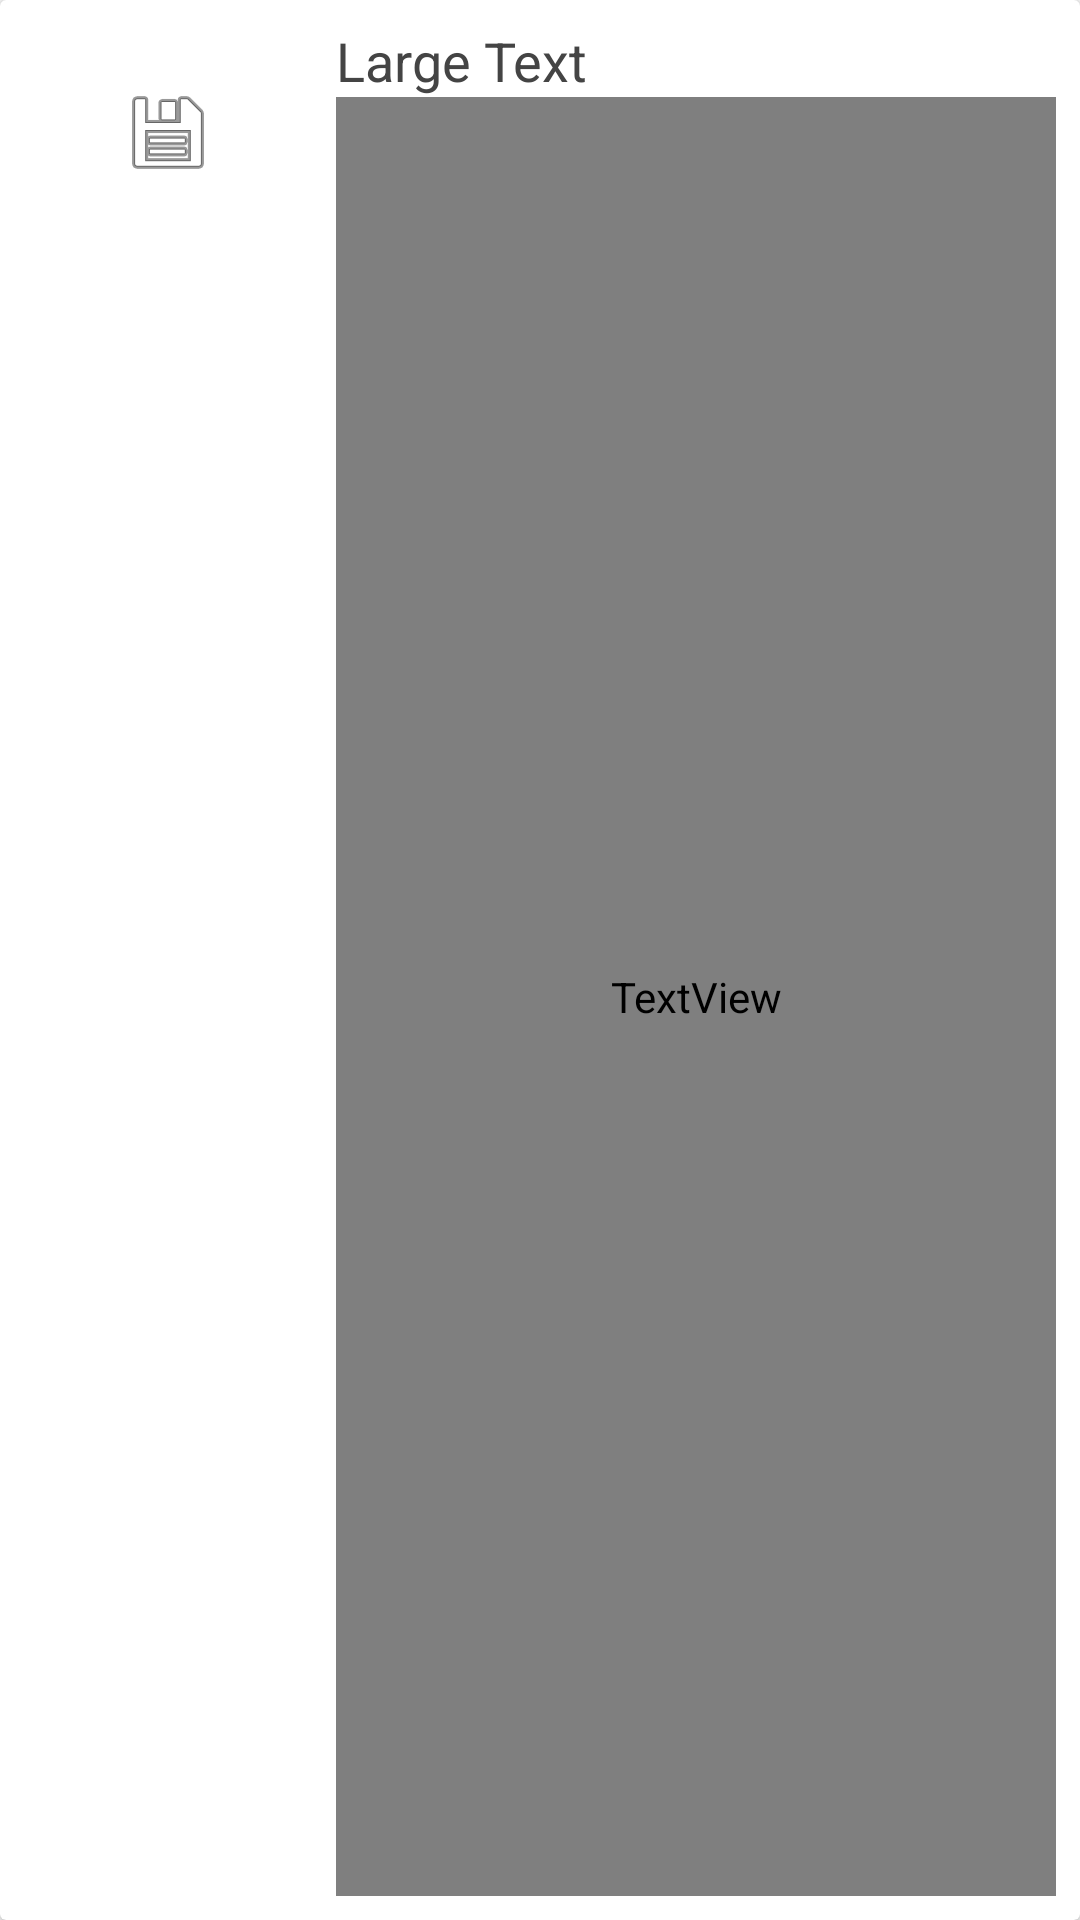

Icons on this 1080 × 1920 Android screen, each with its box as (x1, y1, x2, y2):
save: (132, 96, 204, 169)
